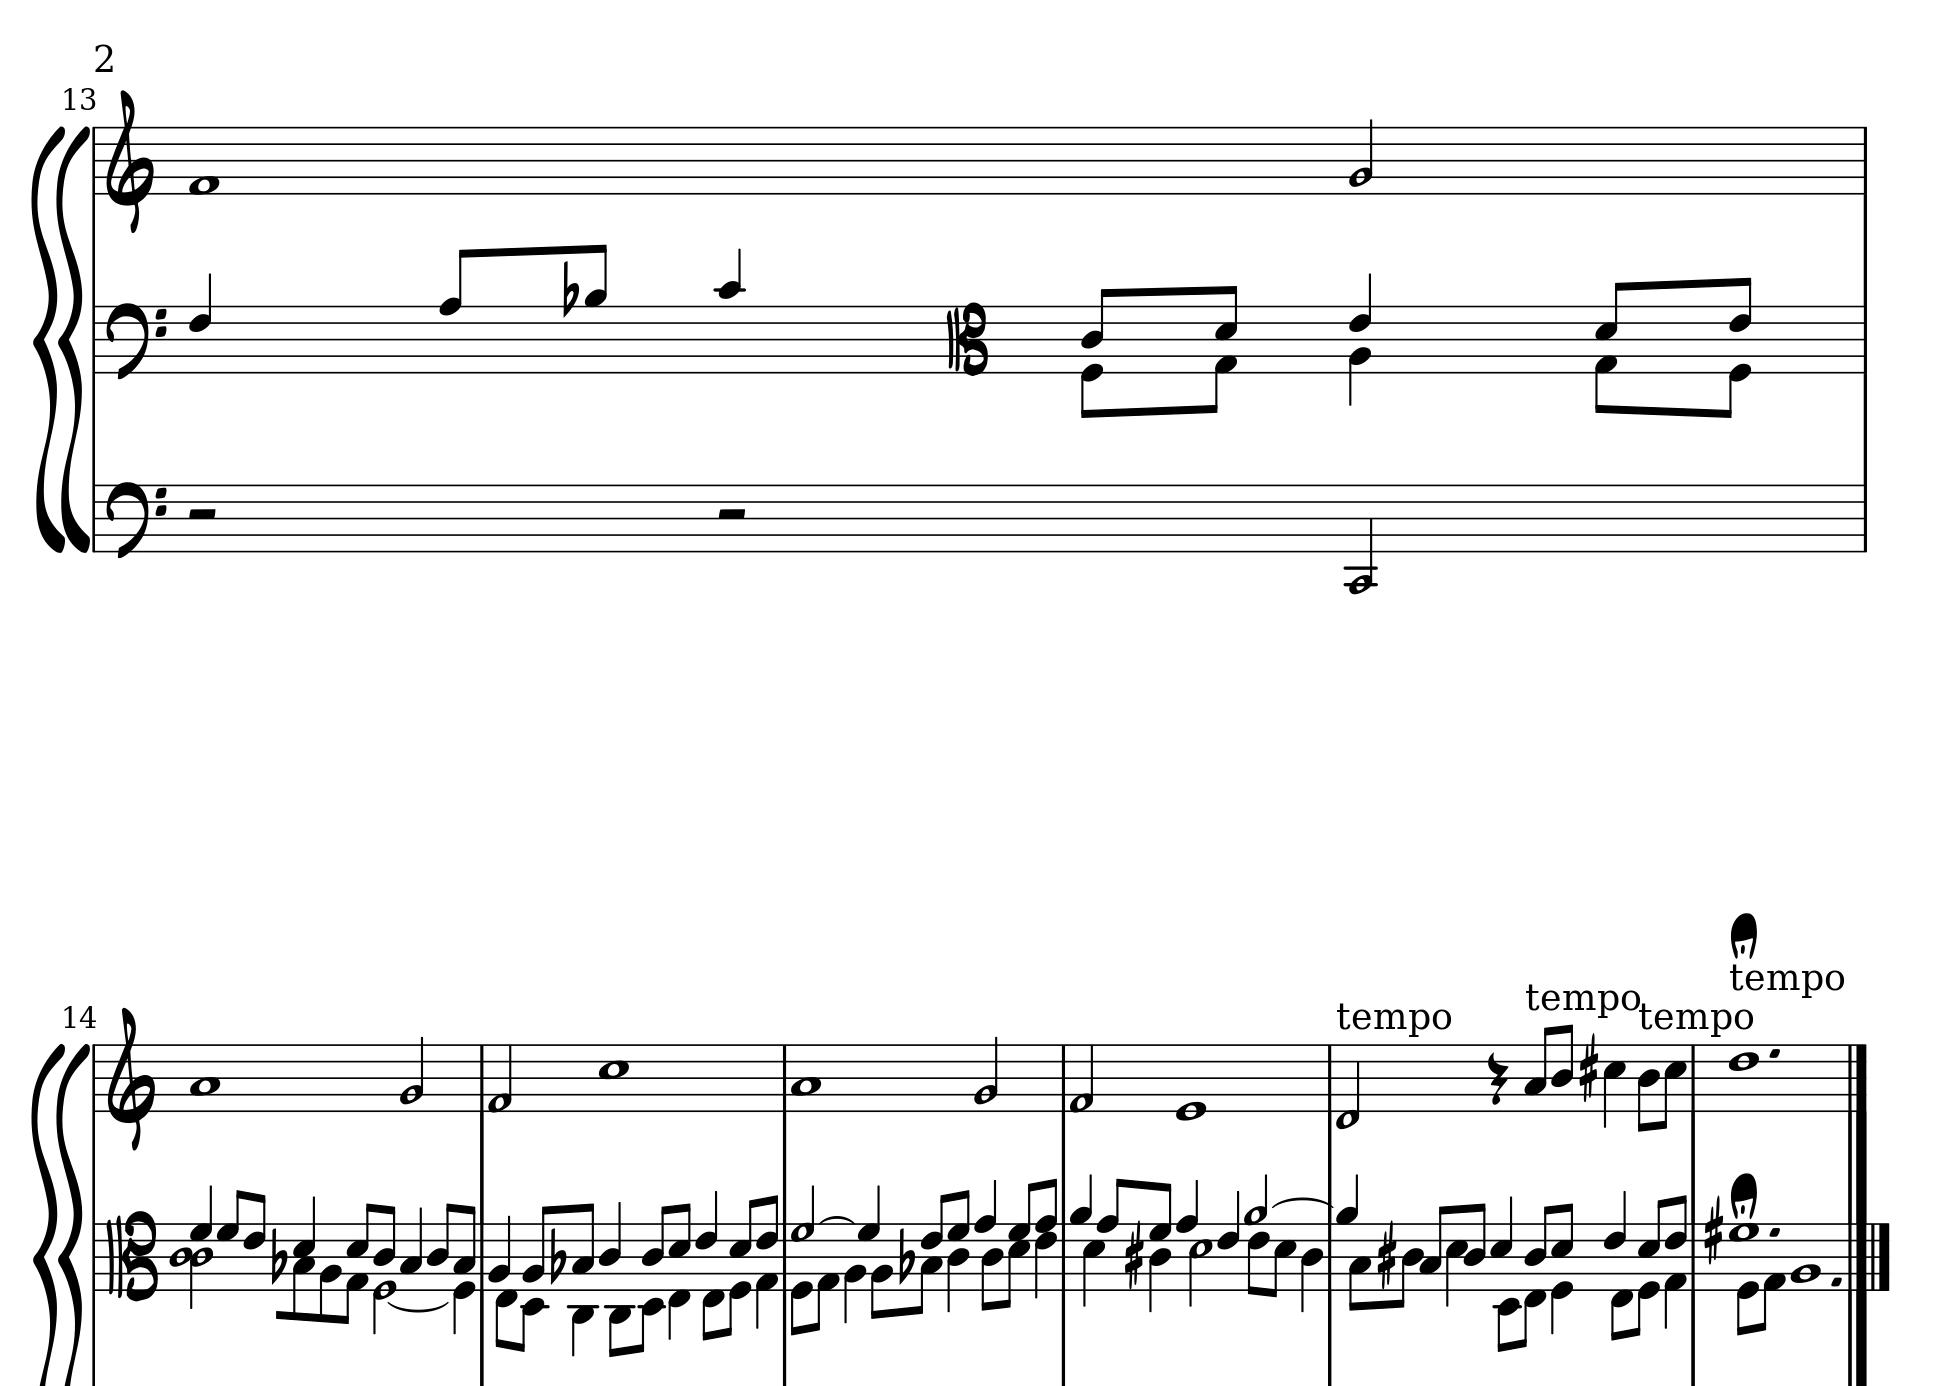1: (61, 1003, 76, 1030), (63, 85, 76, 112)
1_0: (1173, 1039, 1209, 1123)
1_1: (187, 124, 222, 199)
1_2: (1791, 1219, 1824, 1293)
1_3: (790, 1041, 822, 1114), (190, 1041, 220, 1113)
1_5: (597, 1042, 631, 1114)
1_6: (1728, 1042, 1761, 1113)
2: (91, 40, 114, 73)
2_-1: (1335, 1041, 1362, 1129)
2_-4: (1345, 480, 1378, 595)
2_1: (1068, 1041, 1096, 1113), (487, 1042, 514, 1114)
2_2: (397, 1033, 427, 1114), (1347, 117, 1377, 196), (972, 1033, 1002, 1113)
2_5: (1188, 1213, 1215, 1306)
3: (79, 85, 96, 111)
4: (79, 1003, 97, 1030)
4_10: (715, 247, 744, 375)
4_2_6: (1347, 271, 1375, 405)
4_3: (399, 1201, 423, 1291)
4_4: (597, 1198, 622, 1291), (1299, 1219, 1324, 1312)
4_5: (1491, 1195, 1513, 1290), (1602, 1042, 1626, 1129), (1081, 1225, 1105, 1308)
4_6: (187, 271, 214, 375), (1216, 1186, 1242, 1293), (694, 1191, 720, 1291)
8_0_4: (1080, 286, 1114, 418)
8_1_5: (1209, 285, 1240, 415)
8_2: (318, 1219, 342, 1324)
8_3: (1524, 1024, 1554, 1111), (1422, 1204, 1449, 1297), (570, 1201, 595, 1293), (1348, 1222, 1372, 1311)
8_4: (424, 1200, 454, 1291), (1395, 1218, 1423, 1309), (1464, 1200, 1486, 1296), (1551, 1023, 1573, 1113), (1638, 1042, 1660, 1132)
8_5: (1659, 1042, 1687, 1129), (667, 1200, 691, 1291), (1269, 1219, 1296, 1299)
8_6: (1603, 1188, 1629, 1291), (241, 1189, 265, 1291)
8_7: (216, 1186, 241, 1291)
8_8: (436, 246, 472, 376)
8_9: (583, 244, 609, 375)
Brace: (60, 121, 91, 555), (31, 120, 61, 555)
Bracke: (1869, 1219, 1896, 1291)
Cclef: (103, 1209, 157, 1300), (945, 300, 987, 376)
Fclef: (103, 478, 168, 561), (105, 300, 168, 381)
Final_barline: (1842, 1219, 1869, 1294), (1843, 1042, 1870, 1110)
Flat: (895, 1224, 915, 1285), (547, 1225, 567, 1285), (561, 259, 580, 318), (270, 1225, 288, 1288)
Gclef: (103, 88, 156, 234), (105, 1005, 157, 1150)
Rests2: (184, 504, 220, 523), (714, 505, 750, 523)
Rests4: (1485, 1048, 1509, 1107)
Sharp: (1122, 1219, 1146, 1291), (1701, 1198, 1725, 1266), (1377, 1218, 1398, 1290), (1578, 1032, 1599, 1102)
Single_barline: (1855, 306, 1873, 372), (775, 1045, 793, 1110), (87, 126, 103, 195), (474, 1044, 490, 1111), (1857, 127, 1873, 193), (1857, 484, 1873, 550), (1056, 1044, 1072, 1110), (1321, 1045, 1338, 1111), (1323, 1222, 1339, 1288), (88, 1044, 103, 1113), (1686, 1045, 1701, 1110), (88, 484, 102, 550), (87, 1222, 100, 1288), (475, 1221, 490, 1279), (88, 307, 102, 372), (1687, 1224, 1701, 1288)
Slur: (1272, 1195, 1333, 1209), (385, 1300, 448, 1312), (820, 1213, 855, 1225)
dot: (1767, 1045, 1783, 1060), (1767, 1224, 1782, 1240)
